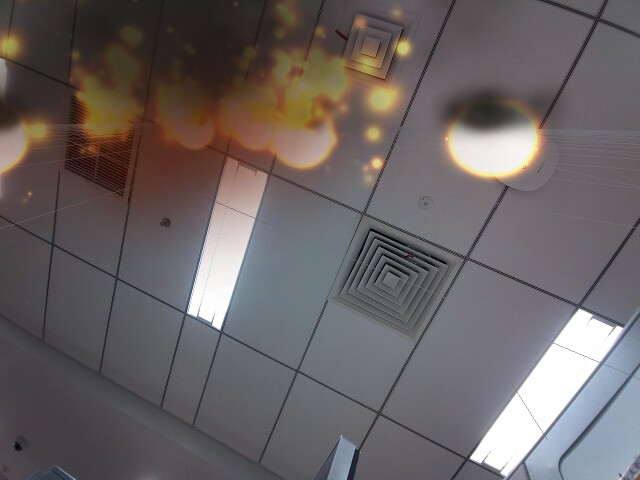fire: (443, 93, 545, 182), (267, 108, 337, 170), (0, 96, 32, 179), (229, 100, 273, 152), (170, 108, 218, 153)
